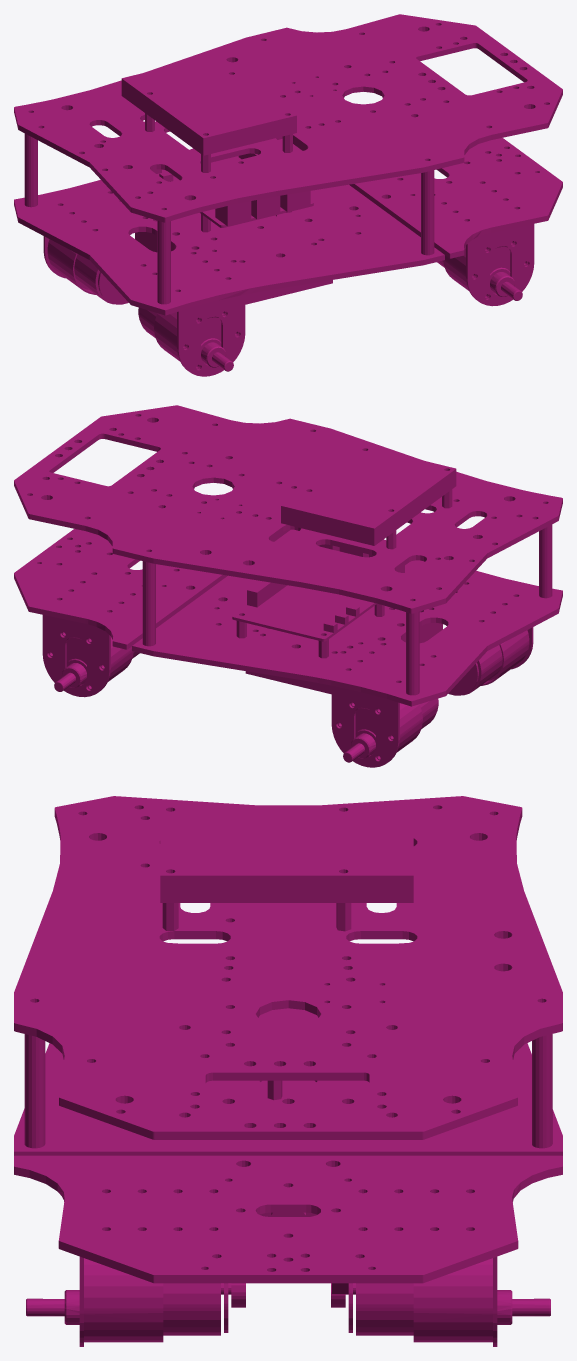
3 views of the same model, one above another, from view 1: azimuth 30°, elevation 25°; view 2: azimuth 150°, elevation 25°; view 3: azimuth 270°, elevation 25° (orthographic). The views are drawn at different scales.
Visible parts, largest first — view 1: node0; view 2: node0; view 3: node0.
Part boxes in pixels (left/top/right/bottom): node0: left=14, top=14, right=562, bottom=376; node0: left=14, top=405, right=562, bottom=767; node0: left=14, top=796, right=562, bottom=1346.
Bounding box in the file's own units: 0.2663 × 0.184 × 0.1224.
